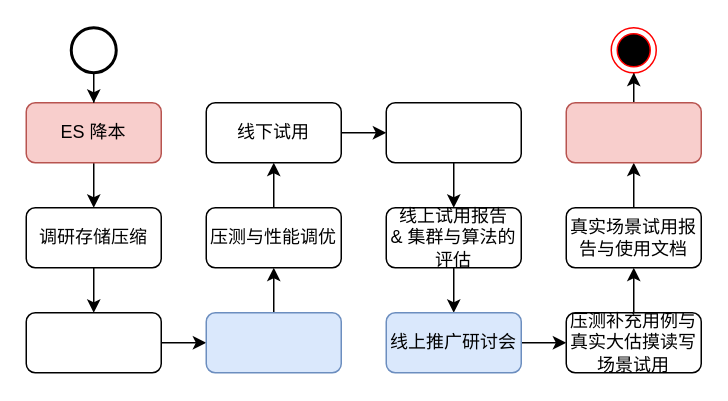
Image size: 728x401. Some labels were removed from this diagram. The shapes that lost their labels are listed below. From the top down, each one's centre as x and y in pixels, then its label:
(x=453, y=132): 线上 3 集群试用
(x=633, y=132): 线上大规模使用 & 降本
(x=93, y=342): 源码研究 & 可行性报告
(x=273, y=342): 立项 & 开发测试
